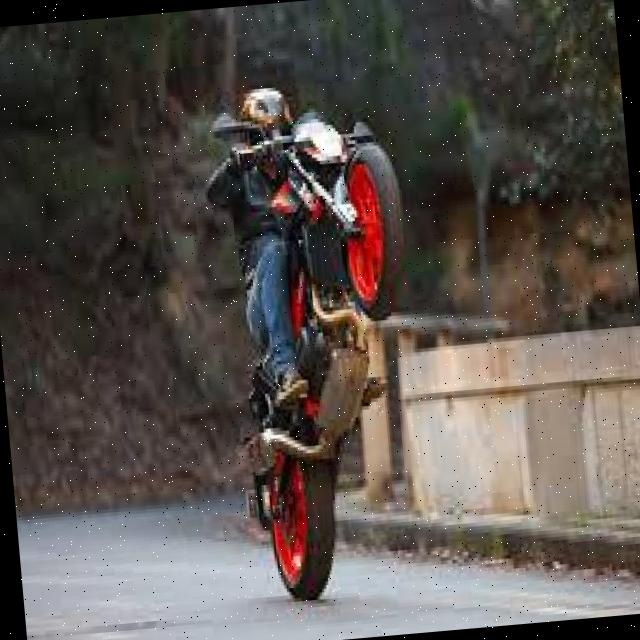Wheeling: (201, 65, 438, 608)
